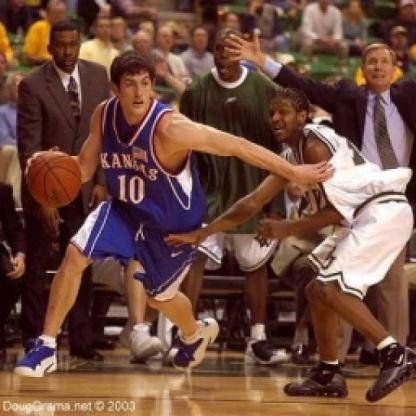basketball: (20, 146, 87, 213)
